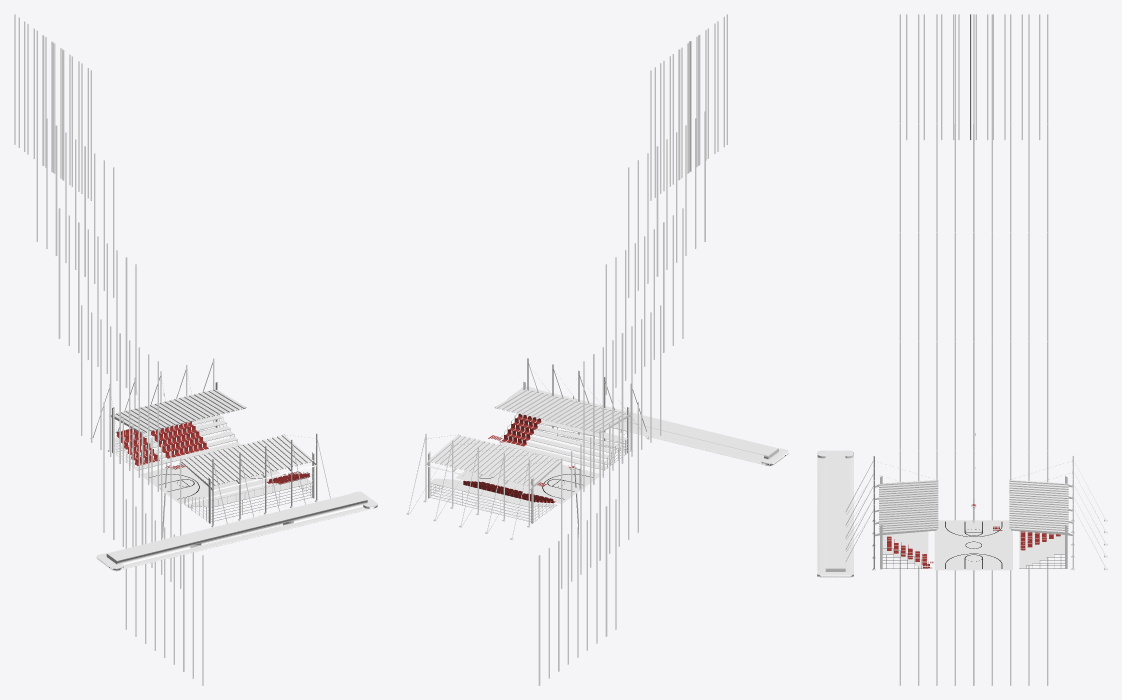
File: court.gltf
The picture shows the model from 3 angles, left to right: view 1: azimuth 30°, elevation 25°; view 2: azimuth 150°, elevation 25°; view 3: azimuth 270°, elevation 25°; orthographic projection. The views are drawn at different scales.
Parts seen in each view (by area): view 1: Cylinder.023, Cylinder.030, Plane.010, Plane.028, Plane.019, Plane.011, Cylinder.024, Plane.008, Cylinder.035, Cube, Cylinder.034, Cube.013 (+2 smaller); view 2: Cylinder, Plane.019, Plane.010, Plane.028, Plane.011, Plane.008, Cylinder.027, Cylinder.023, Cylinder.032, Cylinder.026, Cylinder.031, Cylinder.024 (+4 smaller); view 3: Cylinder, Plane.010, Plane.011, Plane.019, Plane.028, Plane.008, Cylinder.030, Cylinder.032, Cylinder.023, Cylinder.027, Cylinder.031, Cylinder.035.
Boxes of the visible parts, x1,y1,x2,y2 form: Cylinder.023: (33, 28, 184, 671); Cylinder.030: (14, 14, 203, 685); Plane.010: (96, 492, 377, 571); Plane.028: (181, 434, 314, 486); Plane.019: (114, 389, 245, 433); Plane.011: (140, 464, 283, 503); Cylinder.024: (18, 17, 155, 621); Plane.008: (96, 491, 377, 568); Cylinder.035: (182, 433, 330, 527); Cube: (151, 421, 208, 458); Cylinder.034: (188, 479, 312, 521); Cube.013: (116, 428, 159, 465); Cylinder: (538, 14, 727, 685); Plane.019: (428, 435, 560, 486); Plane.010: (508, 386, 788, 464); Plane.028: (495, 389, 629, 433); Plane.011: (455, 464, 602, 503); Plane.008: (507, 387, 788, 466); Cylinder.027: (406, 433, 558, 539); Cylinder.023: (678, 16, 724, 180); Cylinder.032: (559, 34, 700, 670); Cylinder.026: (430, 478, 553, 521); Cylinder.031: (623, 17, 724, 462); Cylinder.024: (559, 34, 700, 667); Cylinder: (899, 14, 1048, 685); Plane.010: (817, 450, 853, 577); Plane.011: (934, 520, 1012, 570); Plane.019: (1009, 480, 1068, 532); Plane.028: (879, 480, 938, 532); Plane.008: (819, 450, 853, 577); Cylinder.030: (899, 14, 1048, 685); Cylinder.032: (953, 14, 1040, 685); Cylinder.023: (906, 14, 993, 684); Cylinder.027: (1071, 455, 1107, 570); Cylinder.031: (906, 14, 976, 140); Cylinder.035: (845, 456, 875, 570).
Bounding box in the file's own units: 33.63 × 77.77 × 33.06.
